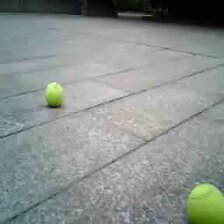tennis: (188, 184, 224, 224), (45, 81, 63, 104)
